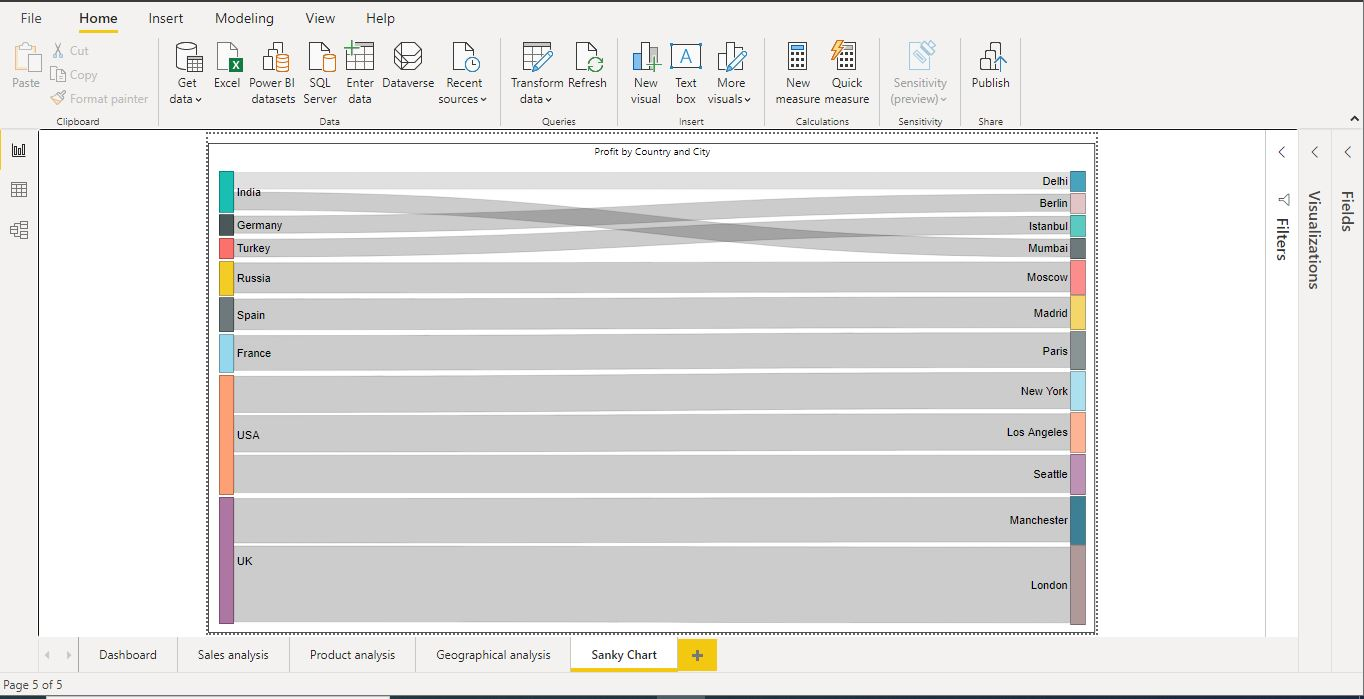

The page's visual inventory and layout, read from the dashboard file:
{"tool":"powerbi","page":{"name":"Sanky Chart","canvas":[1280,720],"ordinal":4},"visuals":[{"type":"SankeyDiagram1446463184954","fields":{"Source":["Sheet1.Country"],"Destination":["Sheet1.City"],"Weight":["Sum(Sheet1.Profit)"]},"box":[0,13.2,1280,707.2],"z":1}]}

Visuals, with their boxes on the page's 1280x720 design canvas (x1, y1, x2, y2). These are canvas units, not pixel positions in the 1364x699 screenshot, which may show the page scaled, cropped or inside an application window:
SankeyDiagram1446463184954 - Sheet1.Country x Sheet1.City: bbox=(0, 13, 1280, 720)
